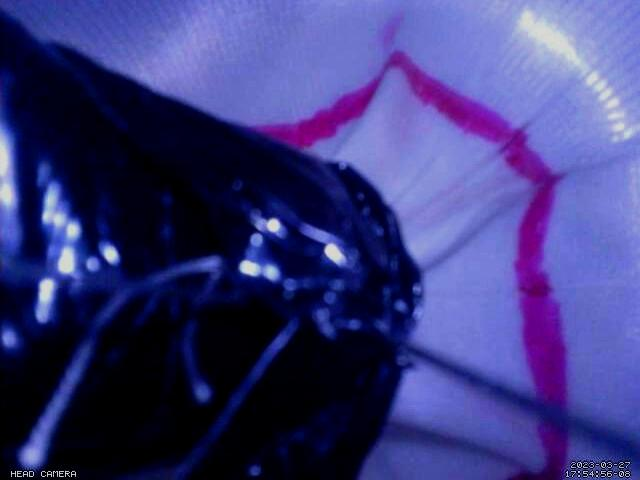red-circle: (252, 50, 568, 480)
